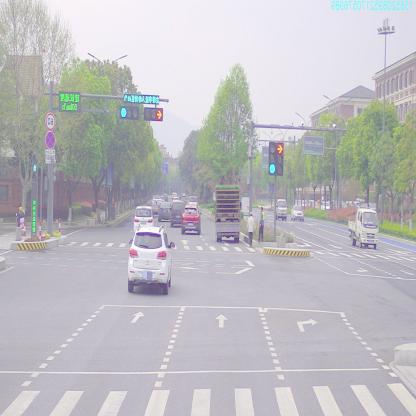traffic-light: (123, 95, 159, 103), (121, 107, 140, 121), (145, 107, 164, 118)
